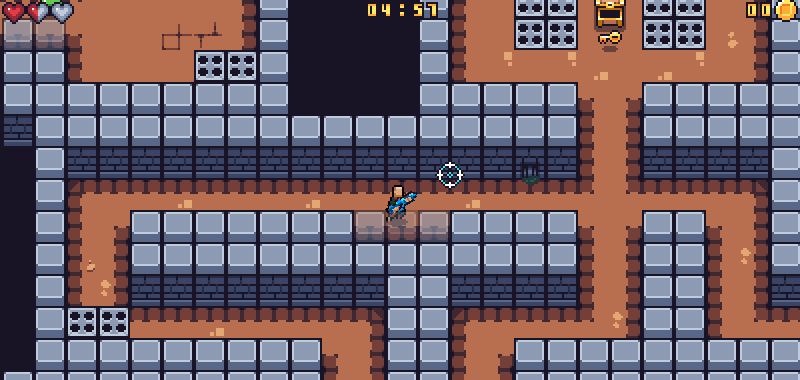key: (594, 29, 624, 46)
trap_off: (515, 0, 578, 48), (644, 0, 705, 48), (195, 49, 258, 82), (66, 309, 128, 339)
treasury_open: (593, 0, 626, 29)
